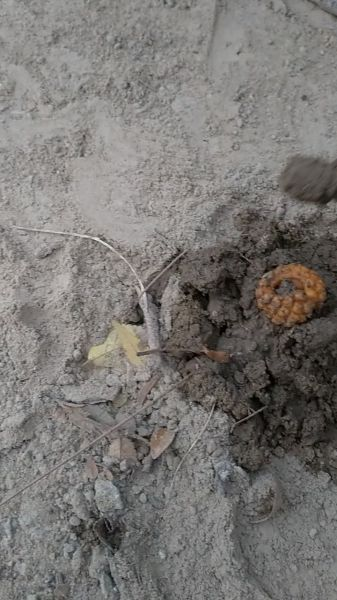eggs: (254, 262, 332, 325)
